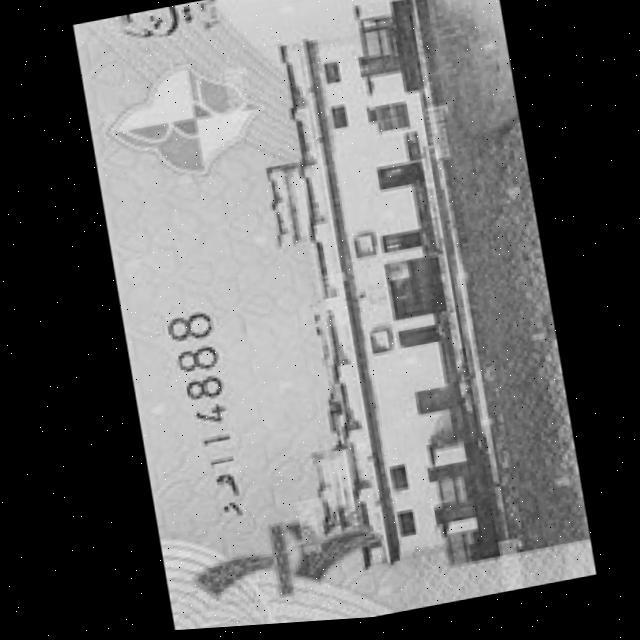banknote: (68, 0, 590, 636)
